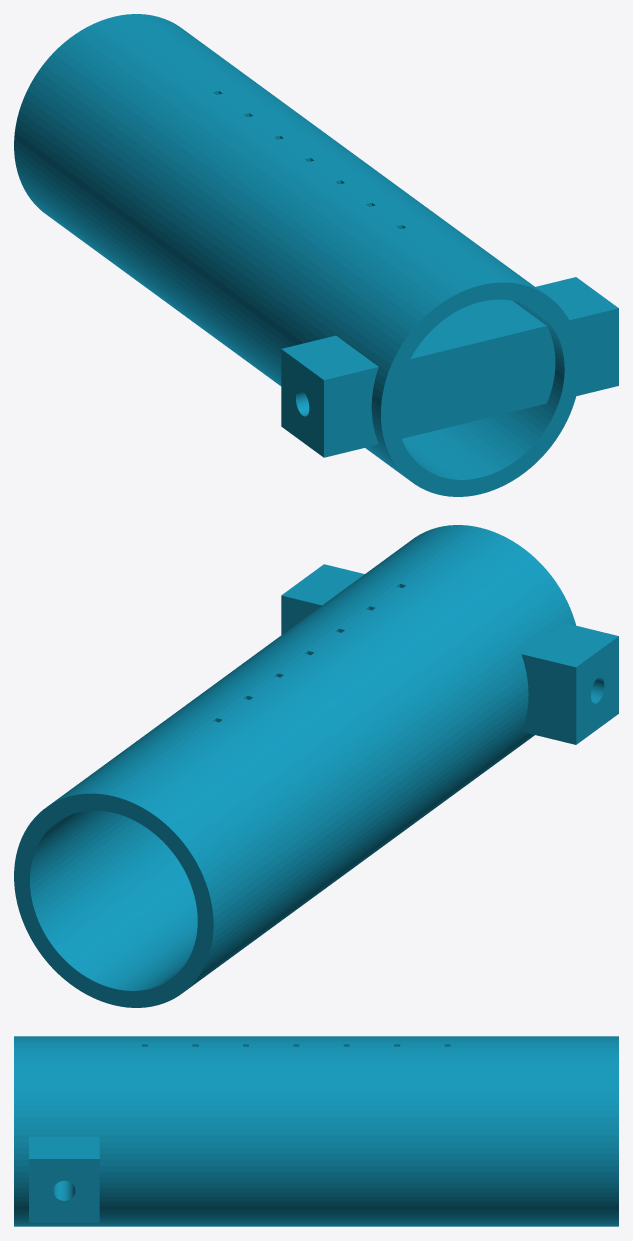
Rendered from agua_tubo_nivel.glb.
3 renders of one model, top to bottom at view 1: azimuth 30°, elevation 25°; view 2: azimuth 150°, elevation 25°; view 3: azimuth 270°, elevation 25°, orthographic. The views are drawn at different scales.
Parts seen in each view (by area): view 1: world; view 2: world; view 3: world.
Part boxes in pixels (box(x1,y1,x2,y2)): world: box(14, 14, 618, 496); world: box(14, 525, 618, 1007); world: box(14, 1036, 618, 1226).
Bounding box in the file's own units: 55.7 × 37.7 × 120.
